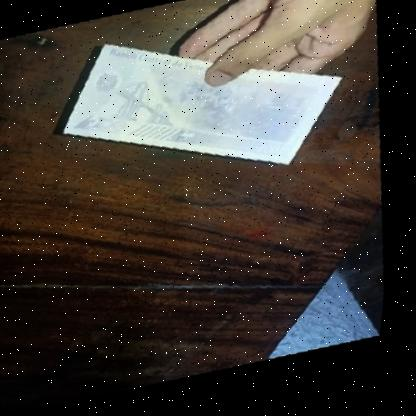two_hundred-back-vef: (56, 16, 354, 198)
